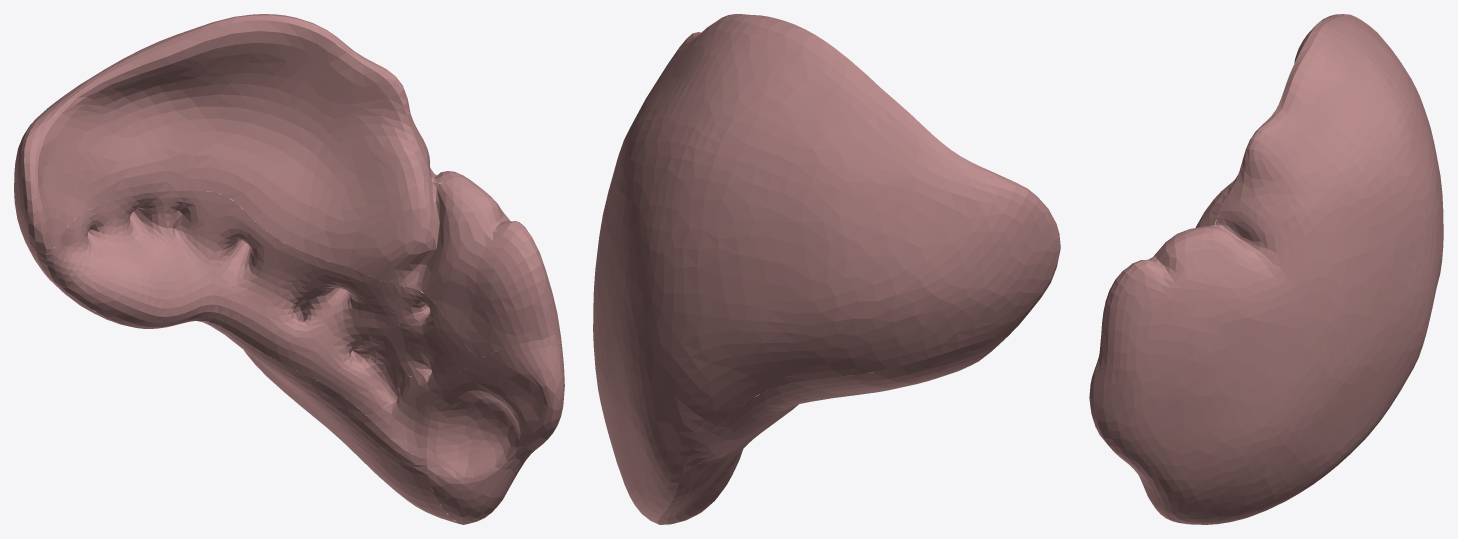
The model's file is VH_M_Spleen_0.4.glb.
The picture shows the model from 3 angles, left to right: view 1: azimuth 30°, elevation 25°; view 2: azimuth 150°, elevation 25°; view 3: azimuth 270°, elevation 25°; orthographic projection. The views are drawn at different scales.
Parts seen in each view (by area): view 1: VH_M_gastric_surface_of_spleen, VH_M_hilum_of_spleen, VH_M_colic_surface_of_spleen, VH_M_diaphragmatic_surface_of_spleen, VH_M_renal_surface_of_spleen; view 2: VH_M_diaphragmatic_surface_of_spleen, VH_M_renal_surface_of_spleen; view 3: VH_M_diaphragmatic_surface_of_spleen, VH_M_gastric_surface_of_spleen.
Part boxes in pixels (bbox=[...]): VH_M_gastric_surface_of_spleen: bbox=[35, 20, 549, 359]; VH_M_hilum_of_spleen: bbox=[45, 190, 477, 458]; VH_M_colic_surface_of_spleen: bbox=[426, 337, 563, 524]; VH_M_diaphragmatic_surface_of_spleen: bbox=[14, 14, 564, 503]; VH_M_renal_surface_of_spleen: bbox=[50, 280, 458, 523]; VH_M_diaphragmatic_surface_of_spleen: bbox=[593, 14, 1060, 523]; VH_M_renal_surface_of_spleen: bbox=[657, 336, 1007, 524]; VH_M_diaphragmatic_surface_of_spleen: bbox=[1093, 14, 1443, 524]; VH_M_gastric_surface_of_spleen: bbox=[1149, 28, 1313, 259].
Bounding box in the file's own units: 0.1104 × 0.1186 × 0.0887.
